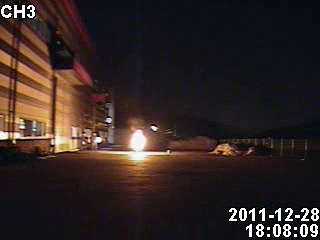fire: (123, 127, 152, 157)
